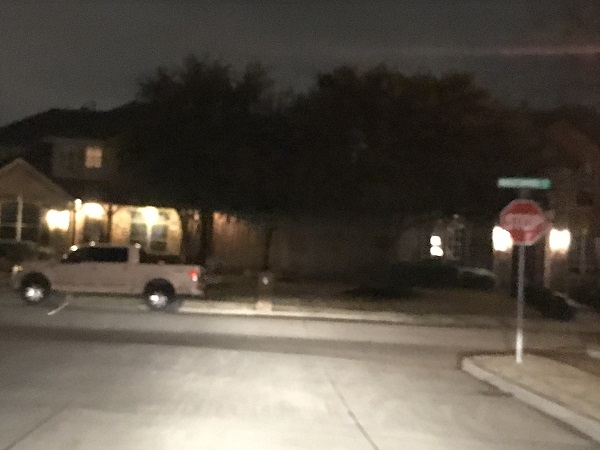stop sign: (497, 195, 547, 247)
truck: (7, 241, 206, 312)
